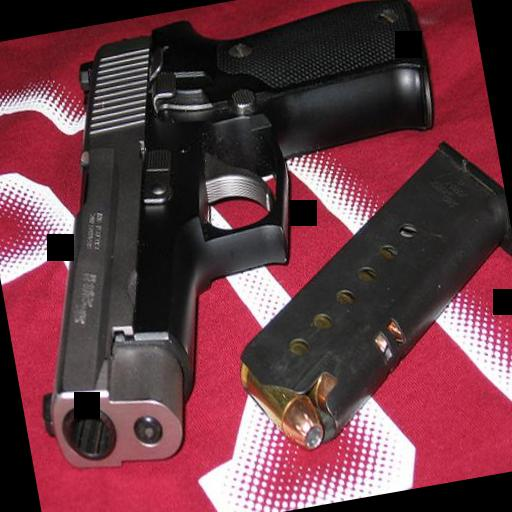Handgun: (0, 0, 484, 476)
